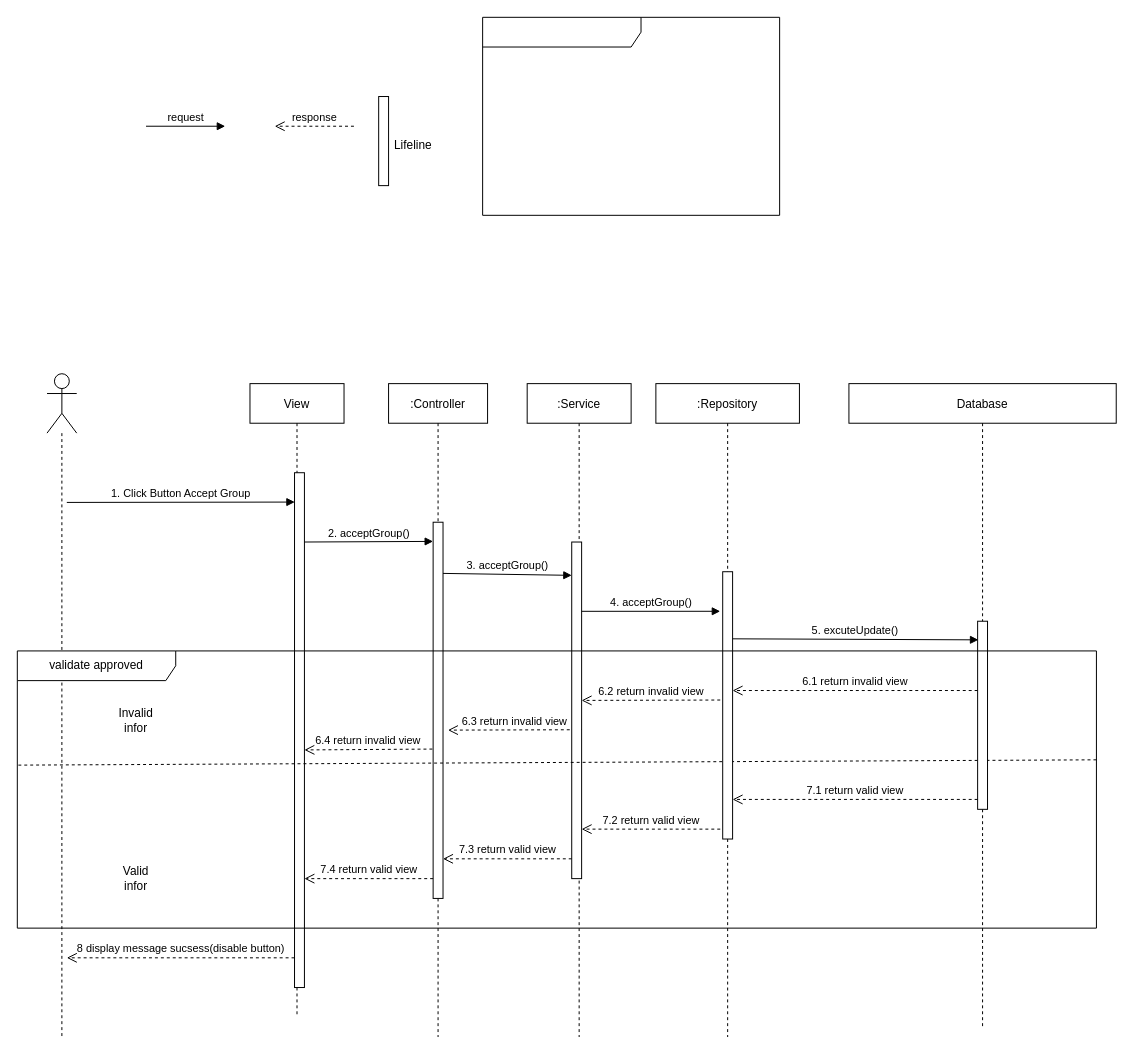
This 1134x1055 diagram has some shape labels left out. The centre of each missing label's shape, as x and y in pixels:
alternative: pixel 631 115
User: pixel 61 403
